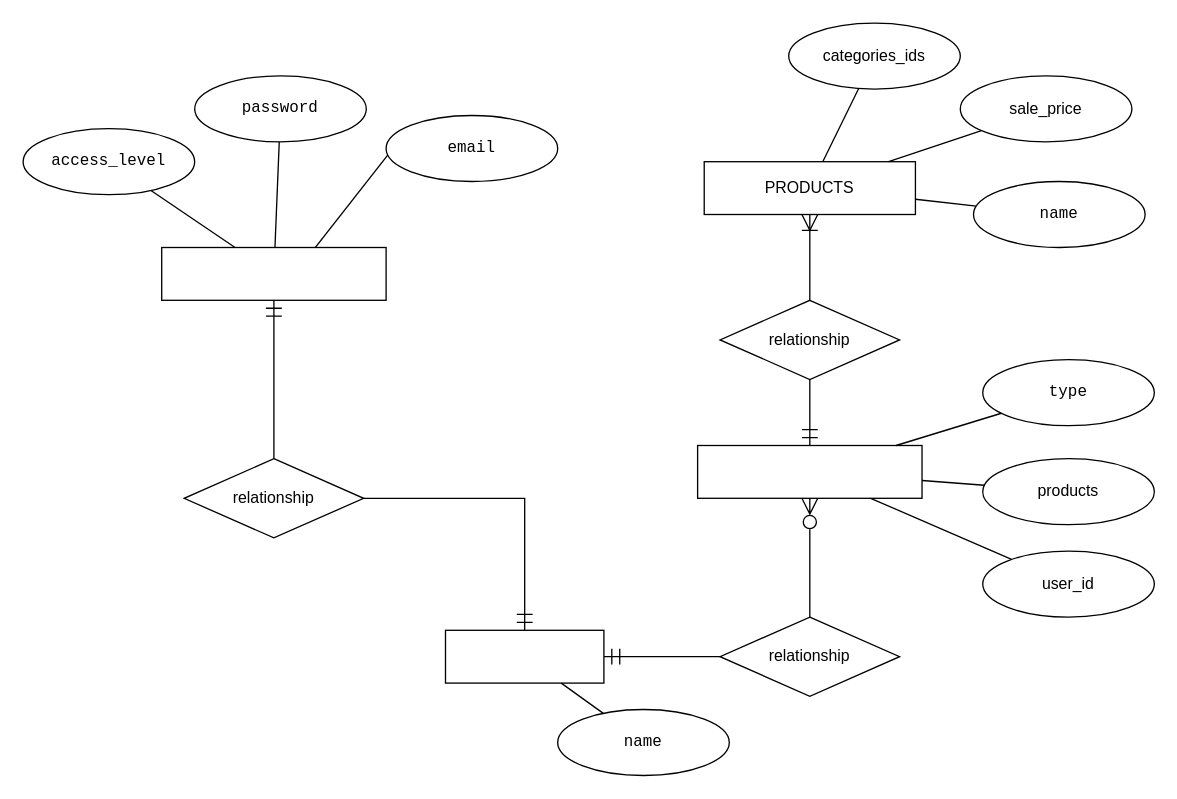
Image size: 1177x799. Some labels were removed from this diagram. The centre of each missing label's shape, as x and y in pixels:
AUTHENTICATE: (x=273, y=273)
TRANSACTION: (x=809, y=471)
USERS: (x=524, y=656)
